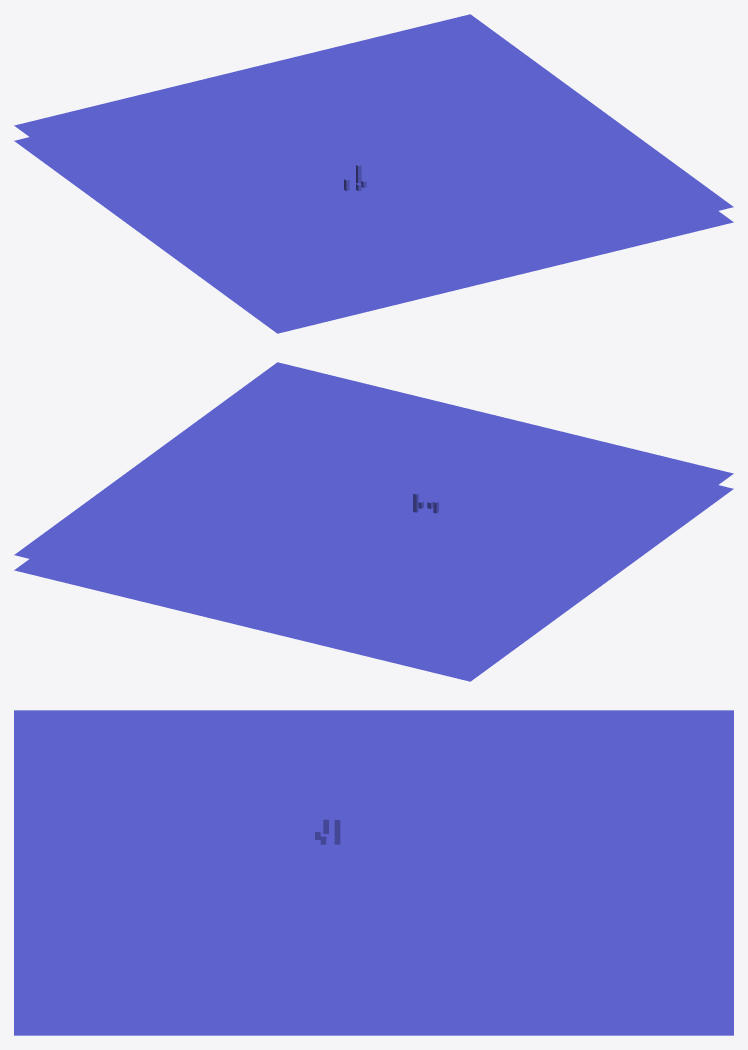
Rendered from octree.glb.
3 renders of one model, top to bottom at view 1: azimuth 30°, elevation 25°; view 2: azimuth 150°, elevation 25°; view 3: azimuth 270°, elevation 25°, orthographic. The views are drawn at different scales.
Parts seen in each view (by area): view 1: MainPlane, BufferPlane; view 2: MainPlane, BufferPlane; view 3: MainPlane, BufferPlane.
Part boxes in pixels (x1,y1,x2,y2): MainPlane: (14, 14, 733, 318); BufferPlane: (14, 137, 733, 333); MainPlane: (14, 362, 733, 666); BufferPlane: (14, 485, 733, 681); MainPlane: (14, 710, 733, 1014); BufferPlane: (14, 1014, 733, 1035).
Bounding box in the file's own units: 116 × 8.05 × 116.
